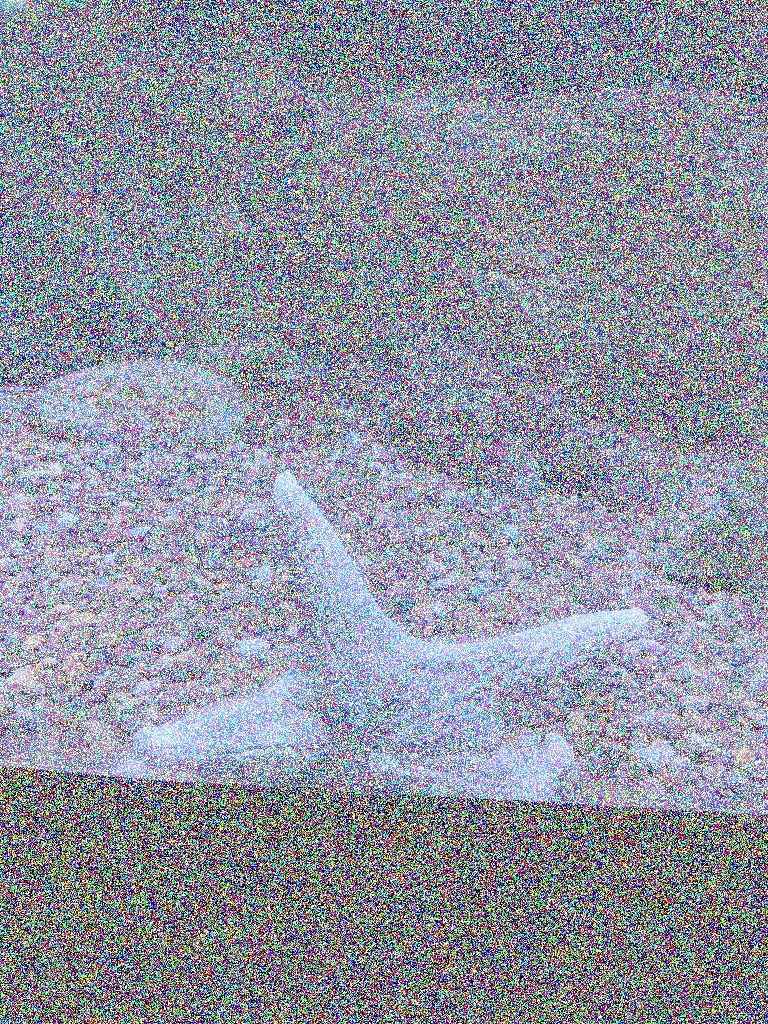starfish: (135, 466, 647, 810)
